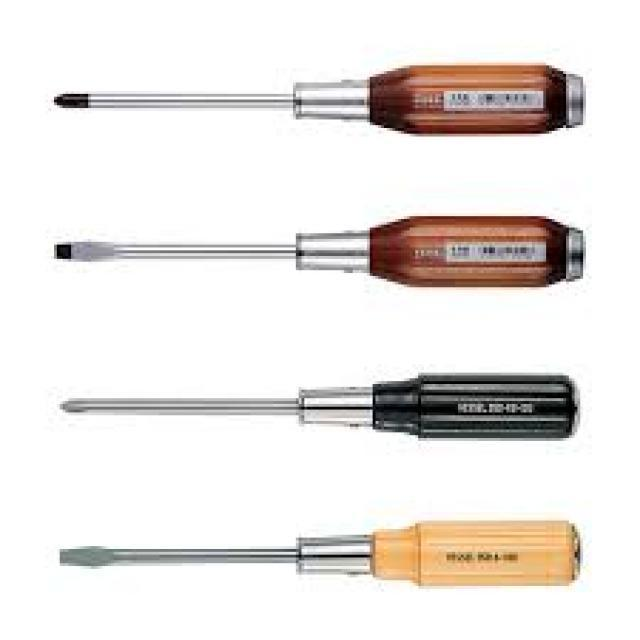screwdriver: (44, 212, 588, 298), (46, 59, 592, 138), (51, 514, 592, 590), (52, 369, 584, 446)
